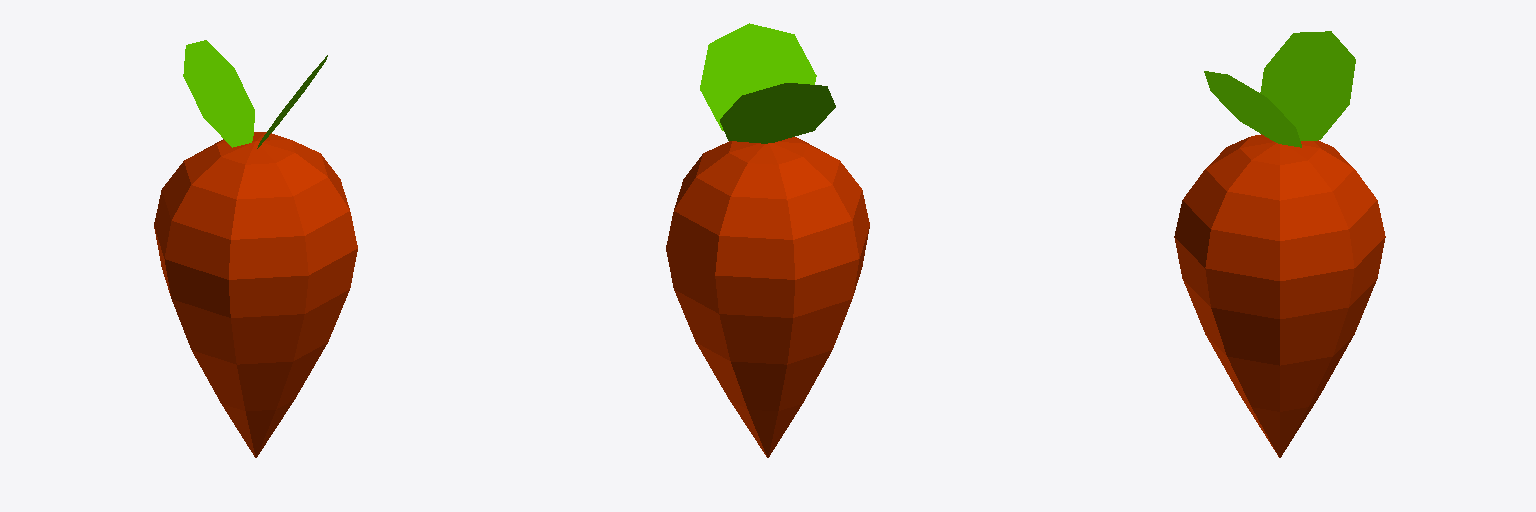
Rendered from carrot.obj.
The picture shows the model from 3 angles: view 1: azimuth 30°, elevation 25°; view 2: azimuth 150°, elevation 25°; view 3: azimuth 270°, elevation 25°; orthographic projection.
Parts seen in each view (by area): view 1: Ripe.001; view 2: Ripe.001; view 3: Ripe.001.
Boxes of the visible parts, x1=… form: Ripe.001: x1=154, y1=40, x2=357, y2=457; Ripe.001: x1=666, y1=23, x2=869, y2=457; Ripe.001: x1=1174, y1=31, x2=1385, y2=457.
Bounding box in the file's own units: 0.32 × 0.6781 × 0.32.